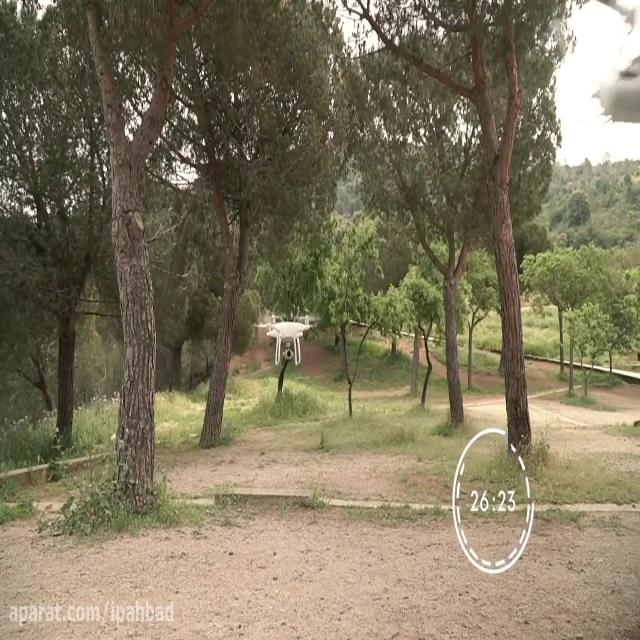drone: (248, 308, 322, 367)
